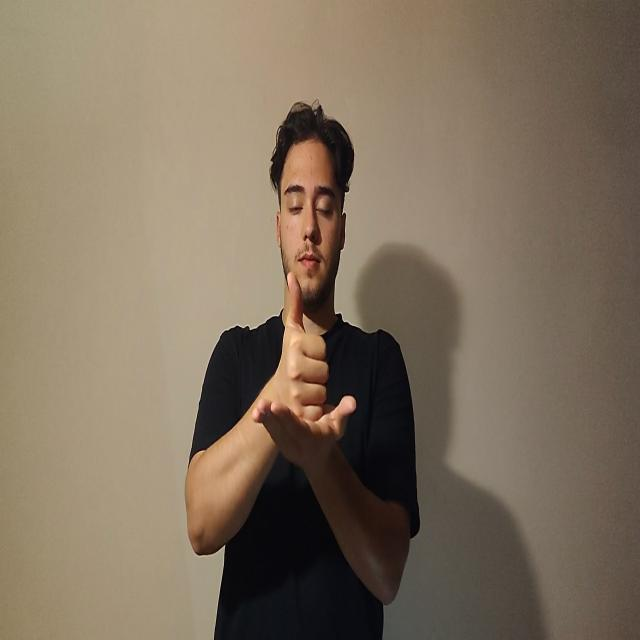help: (254, 273, 356, 474)
